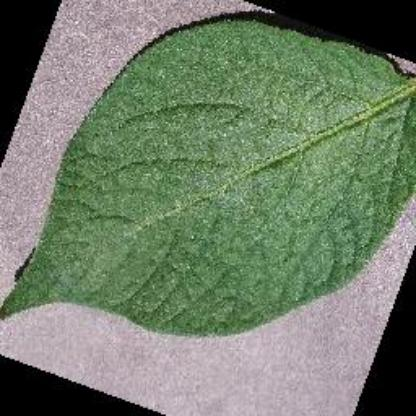Healthy-plant: (2, 16, 416, 338)
